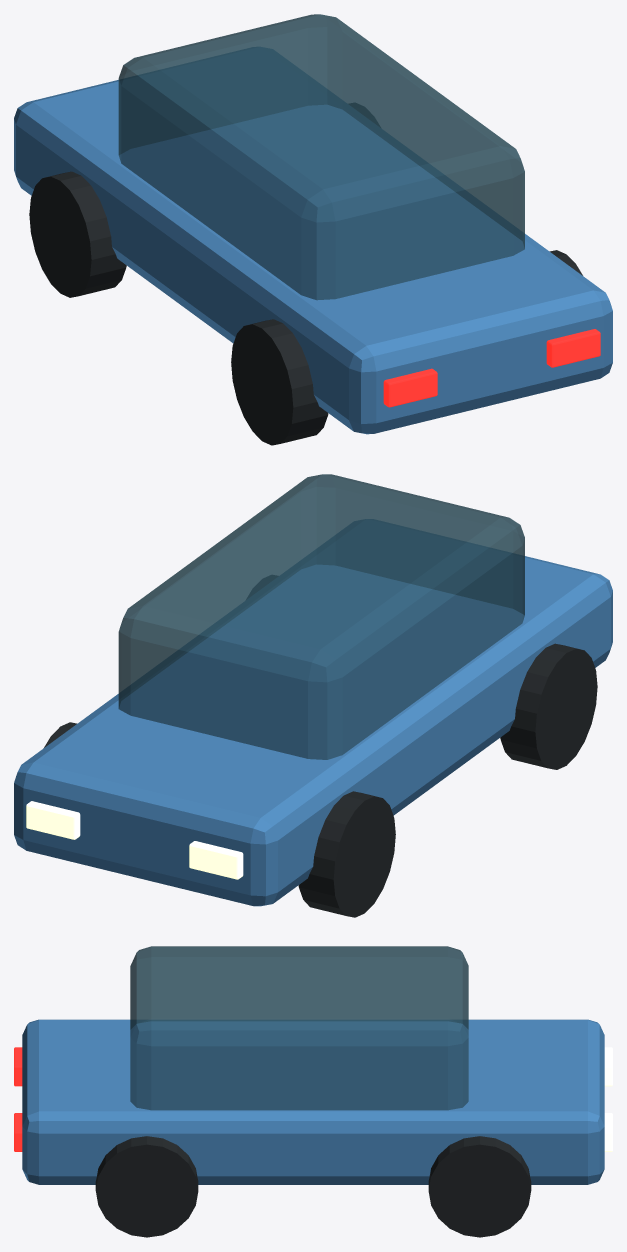
The model's file is traffic-van.glb.
The picture shows the model from 3 angles, top to bottom: view 1: azimuth 30°, elevation 25°; view 2: azimuth 150°, elevation 25°; view 3: azimuth 270°, elevation 25°; orthographic projection. The views are drawn at different scales.
Parts seen in each view (by area): view 1: Body.001, Cabin.001, Wheel_LF.001, Wheel_LR.001, Taillight_-0.001, Taillight_0.001; view 2: Body.001, Cabin.001, Wheel_LF.001, Wheel_LR.001, Headlight_-0.001, Headlight_0.001; view 3: Body.001, Cabin.001, Wheel_RF.001, Wheel_RR.001.
Boxes of the visible parts, left/top/right/bottom form: Body.001: left=14, top=80, right=612, bottom=434; Cabin.001: left=118, top=14, right=524, bottom=300; Wheel_LF.001: left=29, top=171, right=126, bottom=297; Wheel_LR.001: left=231, top=319, right=328, bottom=445; Taillight_-0.001: left=383, top=368, right=437, bottom=407; Taillight_0.001: left=546, top=329, right=600, bottom=367; Body.001: left=14, top=556, right=612, bottom=906; Cabin.001: left=118, top=474, right=524, bottom=759; Wheel_LF.001: left=298, top=791, right=395, bottom=917; Wheel_LR.001: left=500, top=643, right=597, bottom=769; Headlight_-0.001: left=189, top=841, right=243, bottom=879; Headlight_0.001: left=26, top=801, right=80, bottom=839; Body.001: left=22, top=1019, right=604, bottom=1184; Cabin.001: left=130, top=946, right=468, bottom=1110; Wheel_RF.001: left=428, top=1136, right=531, bottom=1237; Wheel_RR.001: left=95, top=1136, right=198, bottom=1237.
Size of the model in its own units: 2.09 by 1.54 by 4.32.
